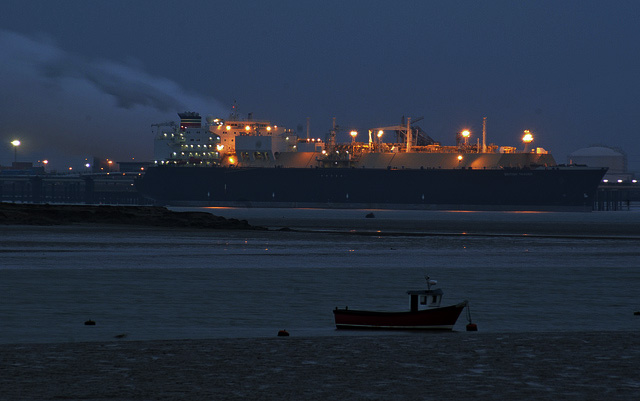LNG_ship: (147, 106, 610, 206)
boat: (333, 280, 468, 330)
